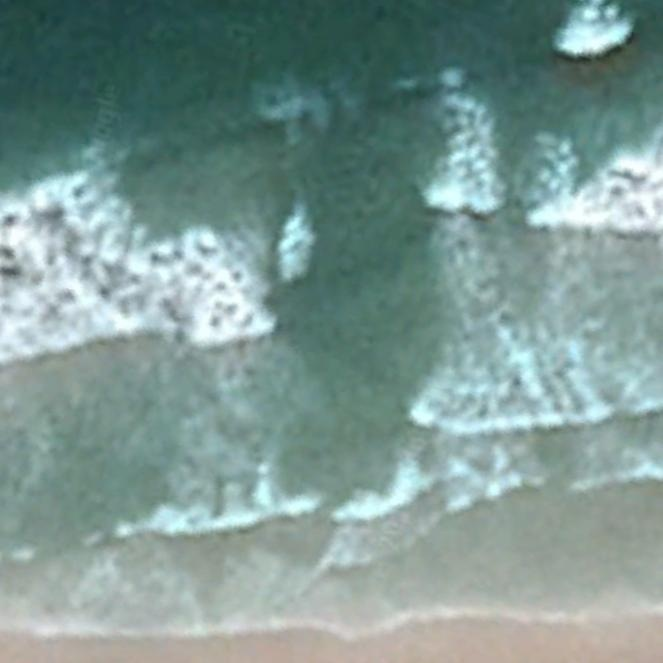rip_current: (214, 74, 484, 513)
